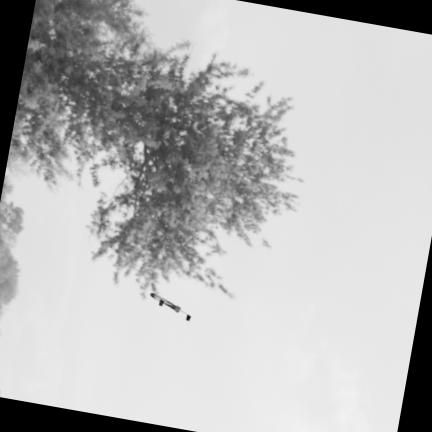Shahed: (149, 293, 191, 322)
